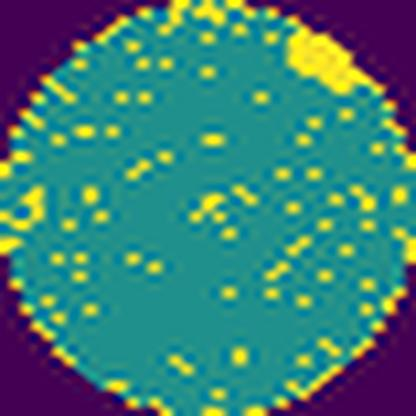Edge-Loc: (279, 14, 385, 98)
